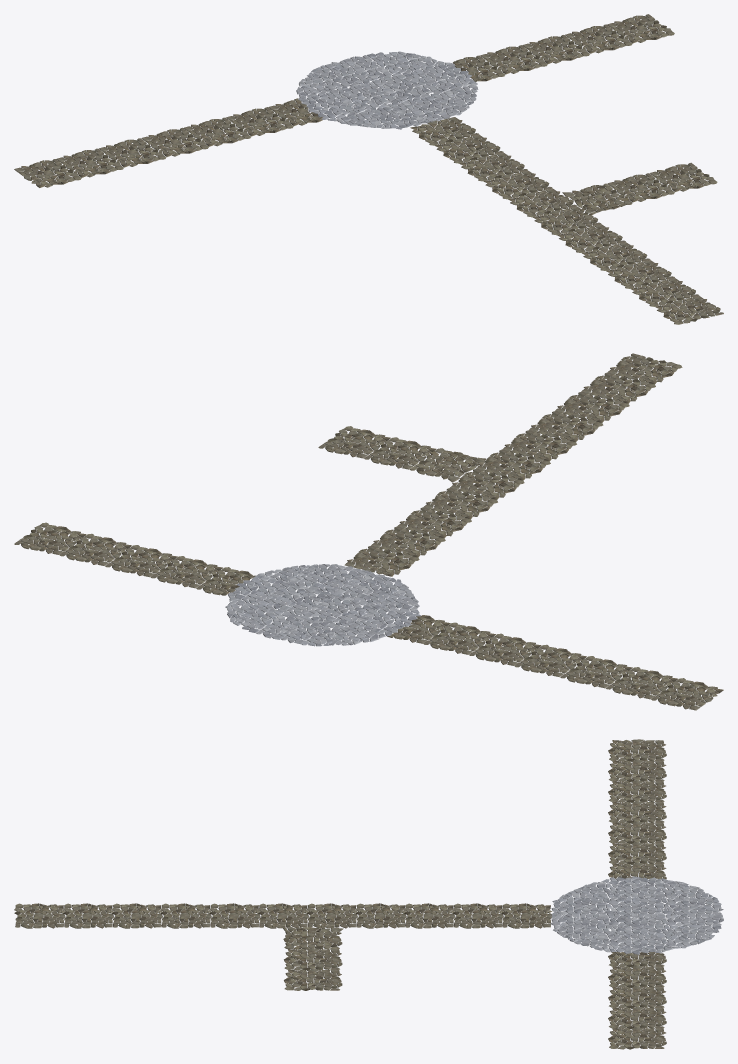
Rendered from Piso Pedra teste texture .fbx.
3 views of the same model, one above another, from view 1: azimuth 30°, elevation 25°; view 2: azimuth 150°, elevation 25°; view 3: azimuth 270°, elevation 25° (orthographic). The views are drawn at different scales.
Visible parts, largest first — view 1: copia piso .029, copia piso .012, copia piso .006, copia piso .027, copia piso .010, copia piso .001, copia piso .023, copia piso .013, copia piso .018, copia piso .025, copia piso .002, copia piso .015 (+15 smaller); view 2: copia piso .029, copia piso .012, copia piso .010, copia piso .019, copia piso .022, copia piso .027, copia piso .002, copia piso .006, copia piso .001, copia piso .003, copia piso .014, copia piso .026 (+15 smaller); view 3: copia piso .029, copia piso .012, copia piso .007, copia piso .015, copia piso .002, copia piso .021, copia piso .027, copia piso .010, copia piso .001, copia piso .006, copia piso .004, copia piso .008 (+15 smaller).
Part boxes in pixels (box(x1,y1,x2,y2)): copia piso .029: box(296, 51, 478, 129); copia piso .012: box(562, 183, 632, 214); copia piso .006: box(582, 242, 650, 270); copia piso .027: box(565, 24, 632, 53); copia piso .010: box(655, 296, 723, 324); copia piso .001: box(606, 260, 674, 288); copia piso .023: box(438, 55, 505, 84); copia piso .013: box(607, 173, 674, 202); copia piso .018: box(184, 117, 251, 146); copia piso .025: box(480, 45, 547, 74); copia piso .002: box(631, 278, 699, 306); copia piso .015: box(268, 97, 335, 125); copia piso .029: box(225, 564, 419, 646); copia piso .012: box(410, 448, 485, 482); copia piso .010: box(607, 353, 682, 384); copia piso .019: box(514, 644, 586, 677); copia piso .022: box(651, 678, 723, 710); copia piso .027: box(59, 533, 131, 565); copia piso .002: box(581, 372, 655, 403); copia piso .006: box(528, 411, 603, 441); copia piso .001: box(555, 392, 629, 422); copia piso .003: box(449, 469, 524, 499); copia piso .014: box(318, 426, 390, 458); copia piso .026: box(14, 522, 86, 554); copia piso .029: box(550, 879, 723, 952); copia piso .012: box(283, 926, 343, 949); copia piso .007: box(404, 903, 455, 928); copia piso .015: box(608, 863, 666, 884); copia piso .002: box(63, 903, 114, 928); copia piso .021: box(608, 760, 666, 781); copia piso .027: box(608, 1007, 666, 1028); copia piso .010: box(14, 903, 65, 928); copia piso .001: box(112, 903, 162, 928); copia piso .006: box(160, 903, 211, 928); copia piso .004: box(209, 903, 260, 928); copia piso .008: box(453, 903, 503, 928).
Bounding box in the file's own units: 8668 × 11.68 × 8392.
